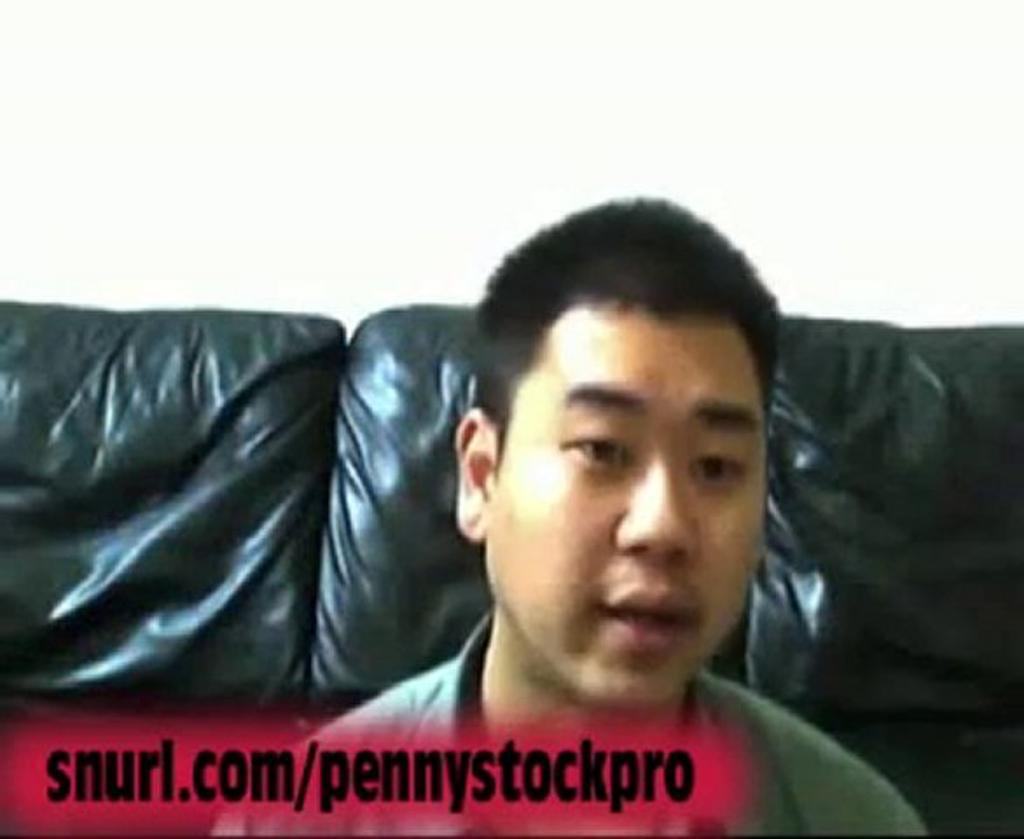face: (495, 315, 765, 703)
